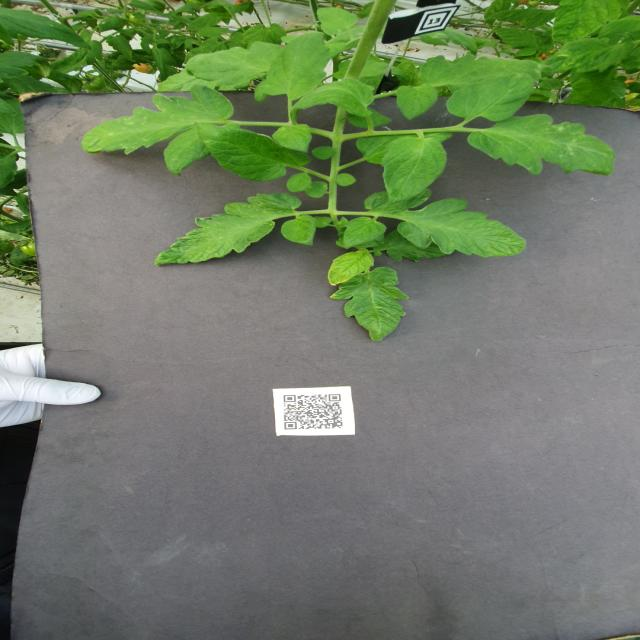Healthy Leaf: (155, 193, 317, 268), (196, 122, 314, 184), (253, 32, 334, 103), (380, 137, 449, 204), (445, 74, 538, 122), (289, 79, 377, 124), (341, 217, 389, 251), (397, 85, 440, 122)
